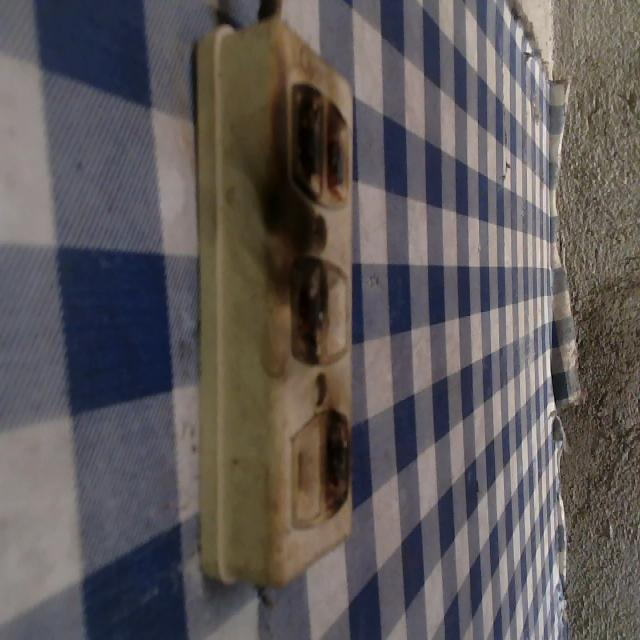-: (282, 79, 353, 209), (285, 247, 330, 373), (322, 405, 358, 519)
